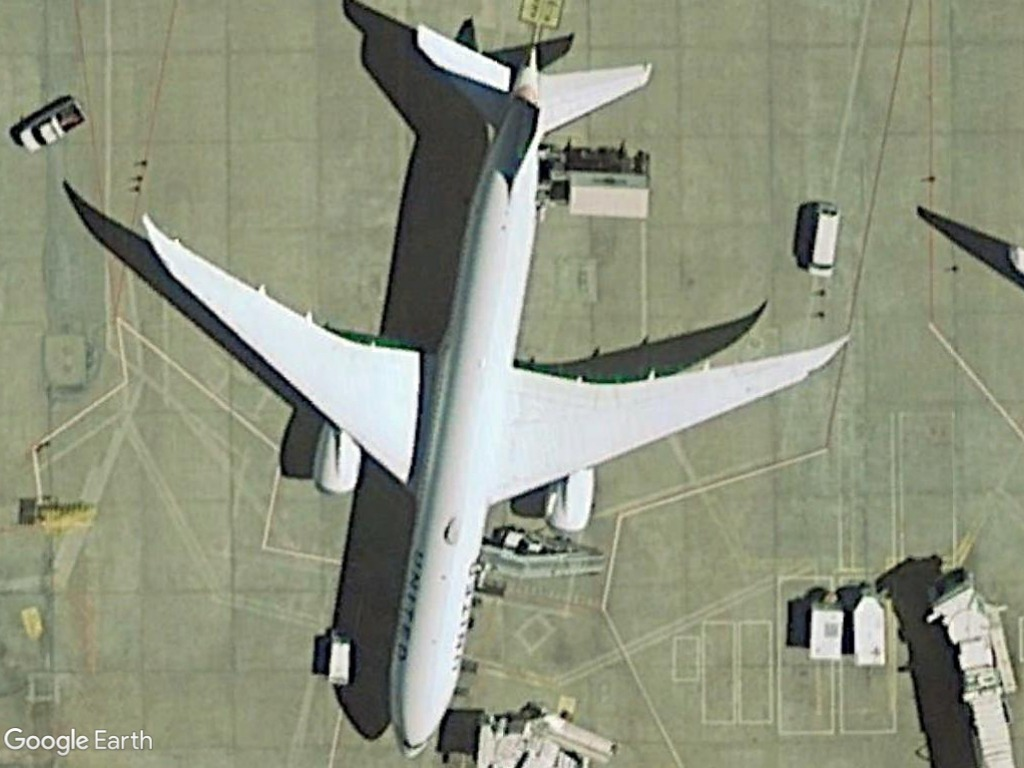airliner: (118, 24, 855, 766)
van: (803, 203, 842, 284)
